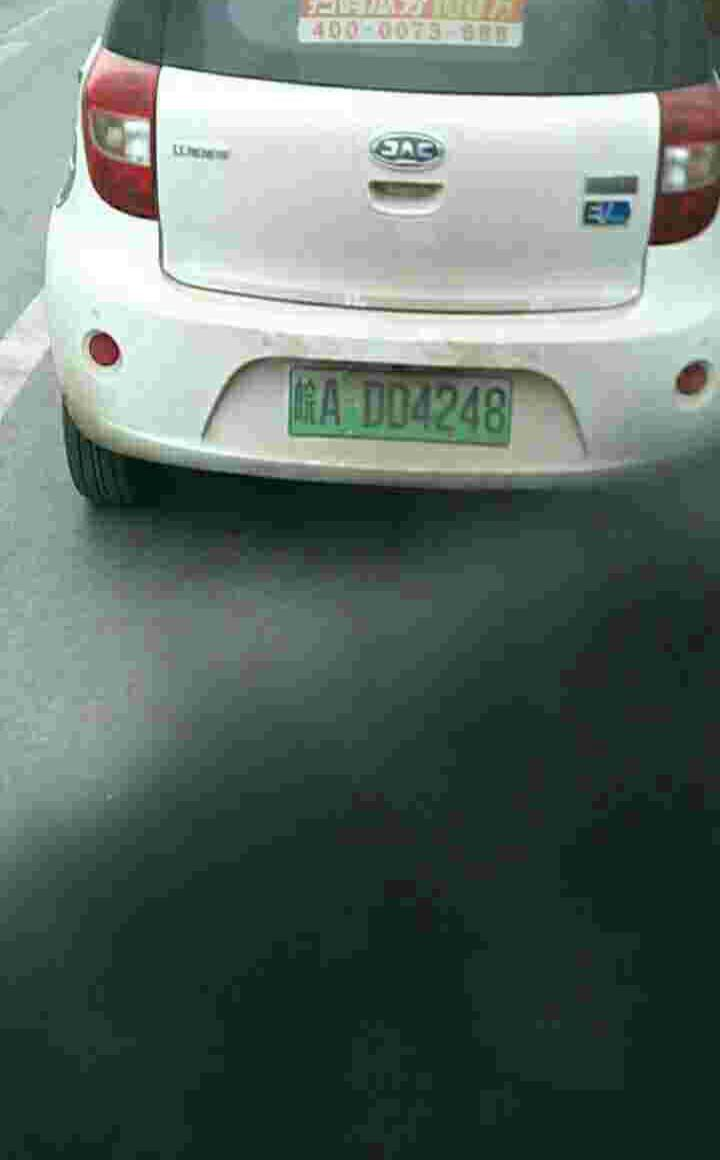car_id: (284, 361, 509, 442)
